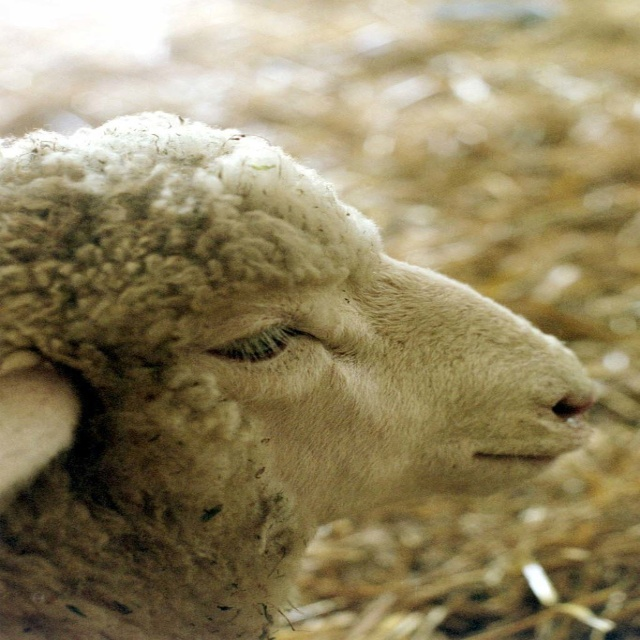Sheep: (0, 108, 596, 640)
